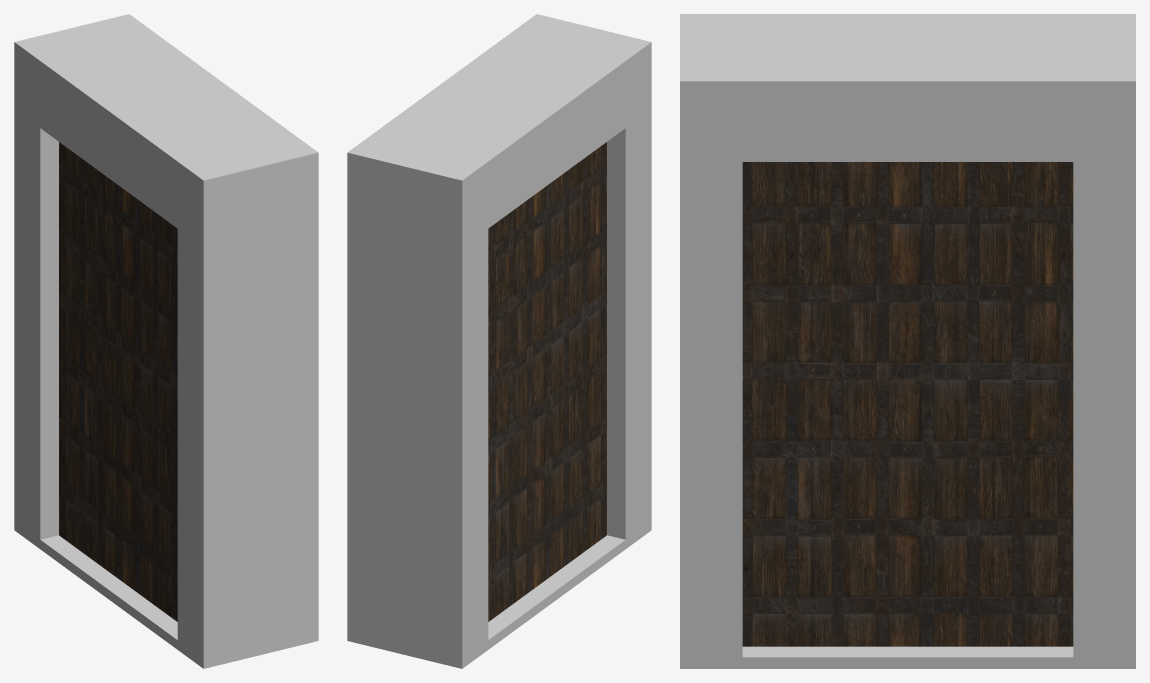
Rendered from Brama.fbx.
3 views of the same model, side by side, from view 1: azimuth 30°, elevation 25°; view 2: azimuth 150°, elevation 25°; view 3: azimuth 270°, elevation 25° (orthographic). The views are drawn at different scales.
Visible parts, largest first — view 1: Gate_2, Gate_door; view 2: Gate_2, Gate_door; view 3: Gate_door, Gate_2.
Boxes of the visible parts, x1,y1,x2,y2 form: Gate_2: (14,14,318,668); Gate_door: (59,142,177,621); Gate_2: (347,14,651,668); Gate_door: (488,142,606,621); Gate_door: (742,162,1073,646); Gate_2: (680,14,1135,668).
Bounding box in the file's own units: 0.9659 × 3.92 × 2.76.
